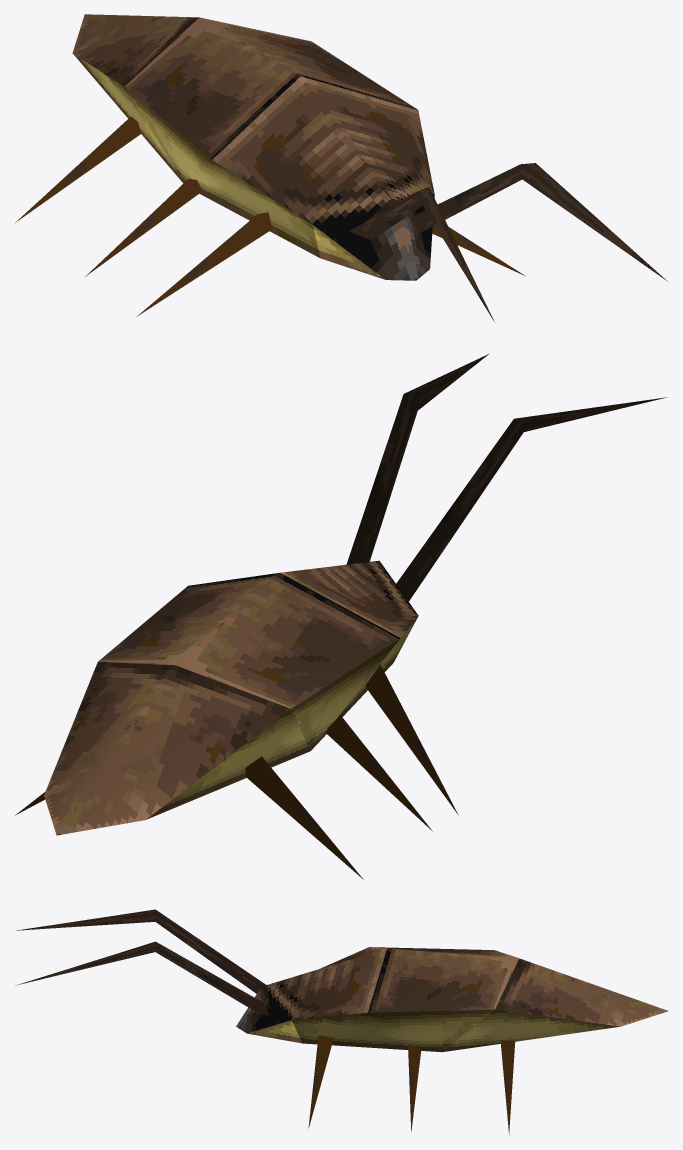
Rendered from roach_55afe931.glb.
The picture shows the model from 3 angles, top to bottom: view 1: azimuth 30°, elevation 25°; view 2: azimuth 150°, elevation 25°; view 3: azimuth 270°, elevation 25°; orthographic projection. The views are drawn at different scales.
Size of the model in its own units: 0.2588 by 0.1681 by 0.6417.
Materials: 1 (1 with a texture image).
